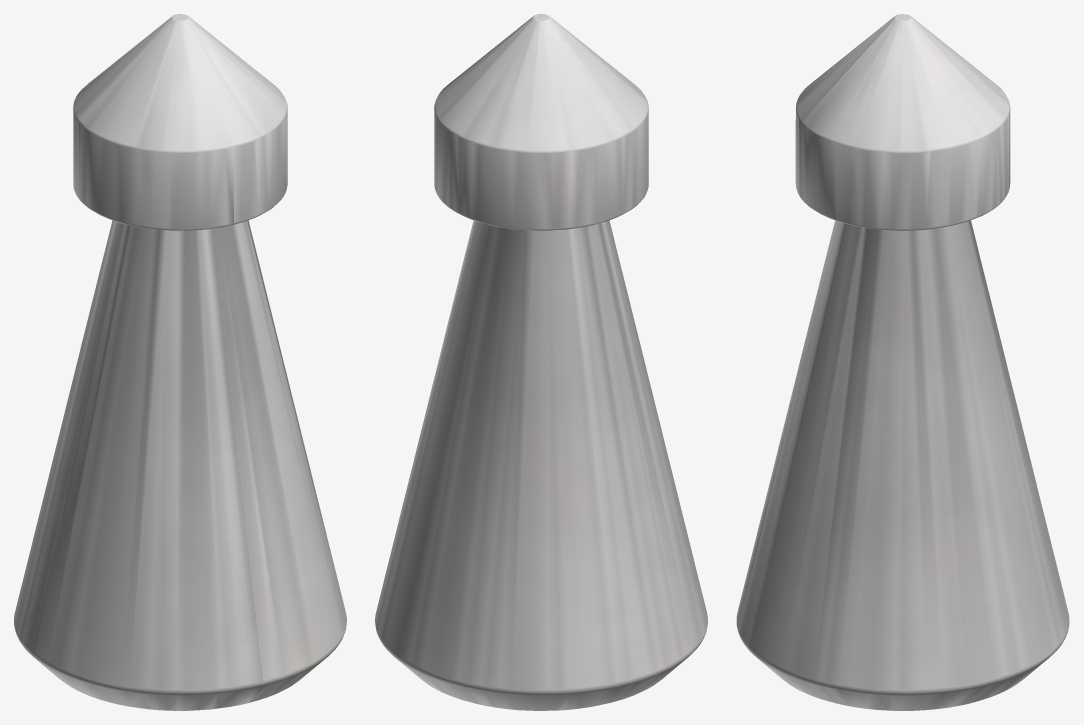
Rendered from 06_strelec_bila.glb.
3 renders of one model, left to right at view 1: azimuth 30°, elevation 25°; view 2: azimuth 150°, elevation 25°; view 3: azimuth 270°, elevation 25°, orthographic.
Parts seen in each view (by area): view 1: 06_strelec_bila; view 2: 06_strelec_bila; view 3: 06_strelec_bila.
Boxes of the visible parts, x1,y1,x2,y2 form: 06_strelec_bila: (14,14,346,710); 06_strelec_bila: (375,14,707,710); 06_strelec_bila: (736,14,1069,710).
Bounding box in the file's own units: 0.0385 × 0.0813 × 0.0385.
Materials: 1 (1 with a texture image).
